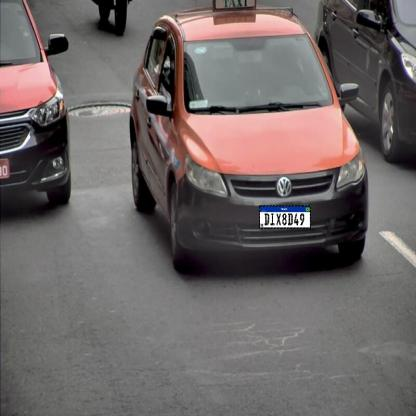PlacaM: (259, 205, 311, 229)
